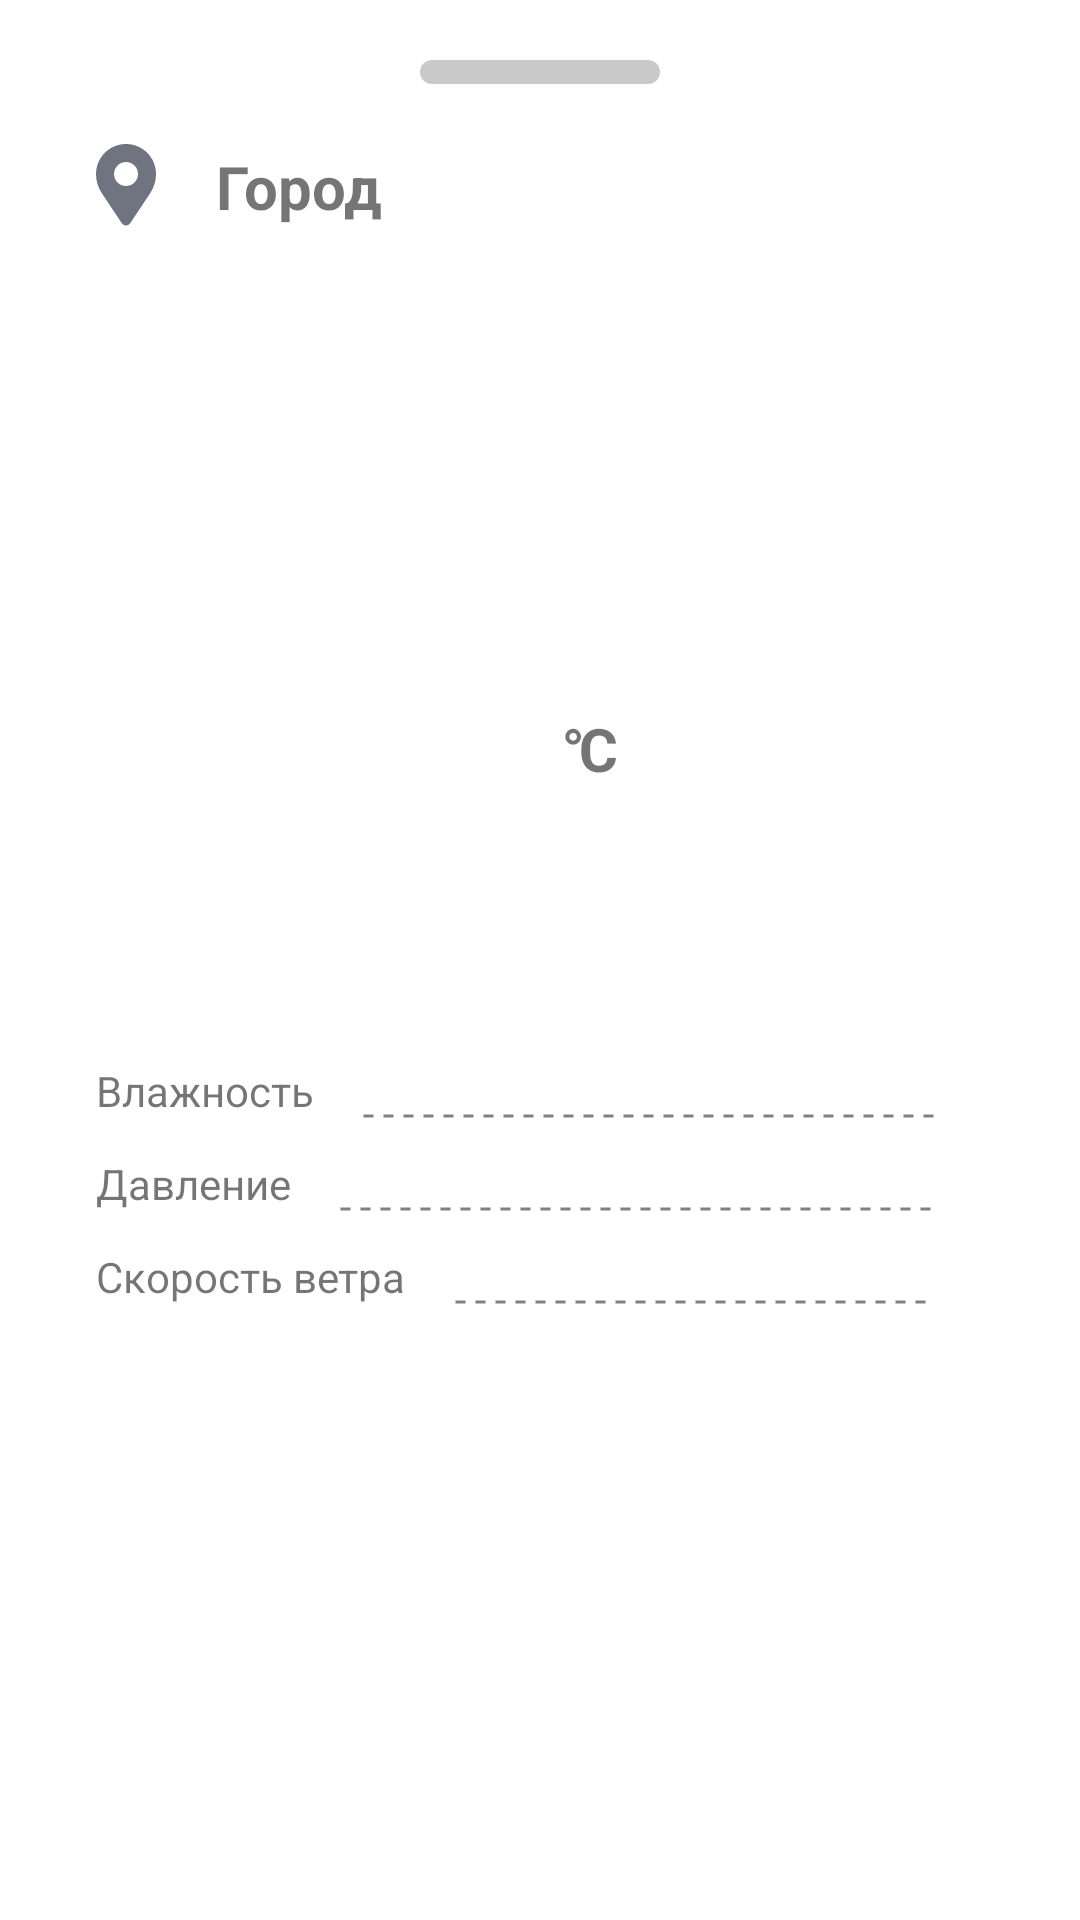

Named icons in this screenshot (1080x1920) and their centers, point (x, y):
geo: point (126, 185)
